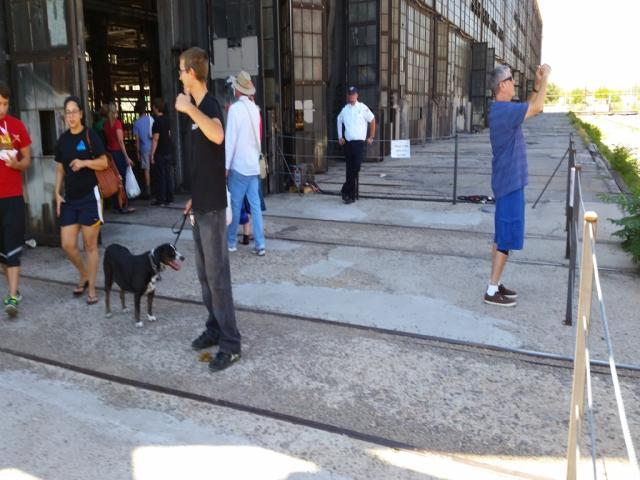Dog: (104, 243, 184, 328)
